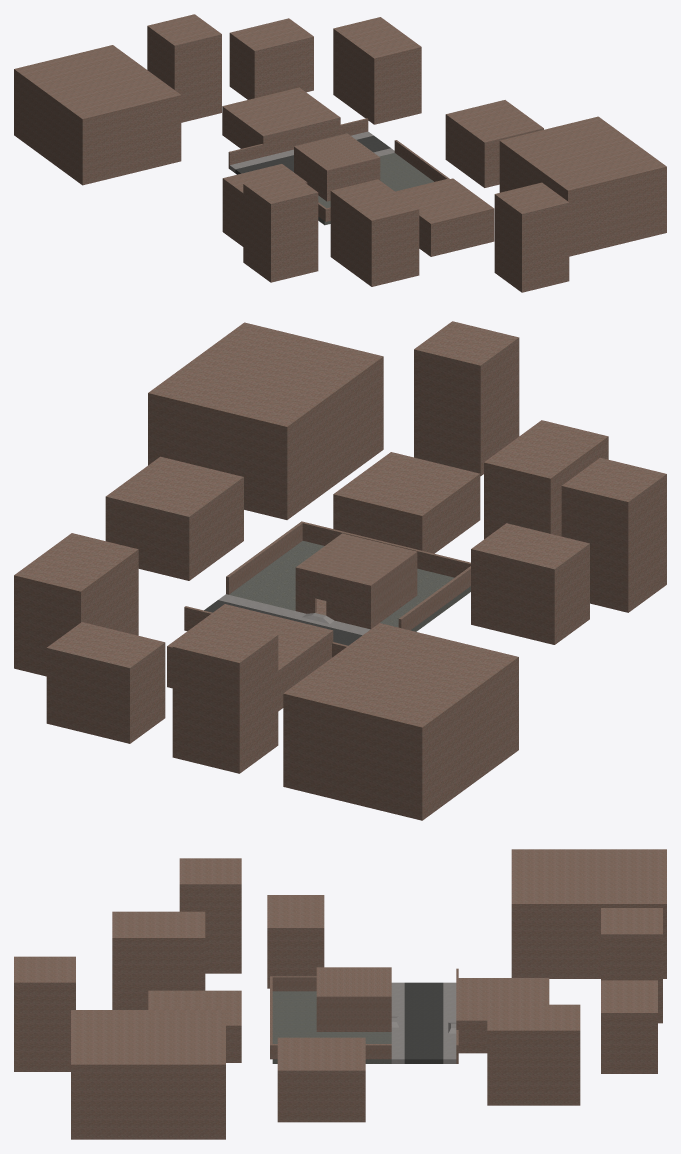
Rendered from building1.glb.
3 views of the same model, one above another, from view 1: azimuth 30°, elevation 25°; view 2: azimuth 150°, elevation 25°; view 3: azimuth 270°, elevation 25° (orthographic). The views are drawn at different scales.
Visible parts, largest first — view 1: Cube.034, Cube.015, Cube.016, Cube.035, Cube.021, Cube.020, Cube.036, Cube.037, Cube.031, Cube.017, Cube.018, Cube.019 (+8 smaller); view 2: Cube.034, Cube.015, Cube.036, Cube.020, Cube.018, Cube.021, Cube.037, Cube.019, Cube.035, Cube.017, Cube.016, Cube.031 (+11 smaller); view 3: Cube.015, Cube.034, Cube.035, Cube.016, Cube.018, Cube.020, Cube.021, Cube.037, Cube.036, Cube.019, Cube.031, Cube.007 (+11 smaller).
Part boxes in pixels (x1=…): Cube.034: x1=14, y1=45, x2=181, y2=185; Cube.015: x1=499, y1=116, x2=666, y2=256; Cube.016: x1=330, y1=179, x2=419, y2=286; Cube.035: x1=333, y1=17, x2=421, y2=124; Cube.021: x1=243, y1=172, x2=318, y2=282; Cube.020: x1=494, y1=182, x2=569, y2=292; Cube.036: x1=147, y1=14, x2=221, y2=122; Cube.037: x1=229, y1=18, x2=313, y2=99; Cube.031: x1=222, y1=87, x2=340, y2=156; Cube.017: x1=396, y1=178, x2=494, y2=256; Cube.018: x1=445, y1=100, x2=543, y2=187; Cube.019: x1=222, y1=164, x2=307, y2=246; Cube.034: x1=283, y1=623, x2=518, y2=820; Cube.015: x1=148, y1=322, x2=383, y2=519; Cube.036: x1=172, y1=618, x2=278, y2=773; Cube.020: x1=414, y1=321, x2=519, y2=476; Cube.018: x1=105, y1=456, x2=243, y2=580; Cube.021: x1=561, y1=457, x2=666, y2=612; Cube.037: x1=46, y1=622, x2=165, y2=743; Cube.019: x1=471, y1=523, x2=589, y2=644; Cube.035: x1=14, y1=533, x2=138, y2=676; Cube.017: x1=333, y1=452, x2=480, y2=553; Cube.016: x1=484, y1=420, x2=608, y2=539; Cube.031: x1=167, y1=604, x2=333, y2=711; Cube.015: x1=71, y1=1010, x2=225, y2=1139; Cube.034: x1=511, y1=849, x2=666, y2=978; Cube.035: x1=487, y1=1004, x2=580, y2=1105; Cube.016: x1=112, y1=911, x2=205, y2=1009; Cube.018: x1=277, y1=1037, x2=365, y2=1122; Cube.020: x1=14, y1=956, x2=75, y2=1071; Cube.021: x1=179, y1=858, x2=241, y2=973; Cube.037: x1=601, y1=980, x2=657, y2=1073; Cube.036: x1=601, y1=908, x2=662, y2=1023; Cube.019: x1=267, y1=895, x2=324, y2=988; Cube.031: x1=456, y1=978, x2=549, y2=1053; Cube.007: x1=404, y1=982, x2=443, y2=1063.
Bounding box in the file's own units: 98.5 × 19 × 126.
Materials: 4 (4 with a texture image).
